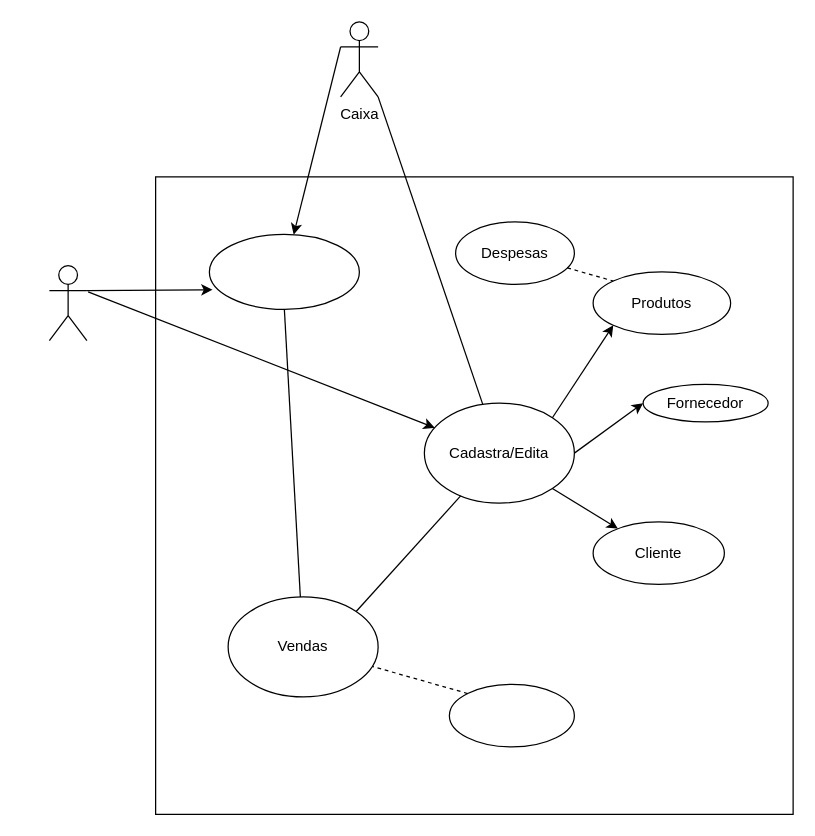
This 815x836 diagram has some shape labels left out. Here are the shapes that lost their labels. From the top down, the box of each, then its label:
(208, 233, 359, 309): Fazer Login
(48, 264, 87, 341): Administrador
(448, 683, 574, 747): Receita
